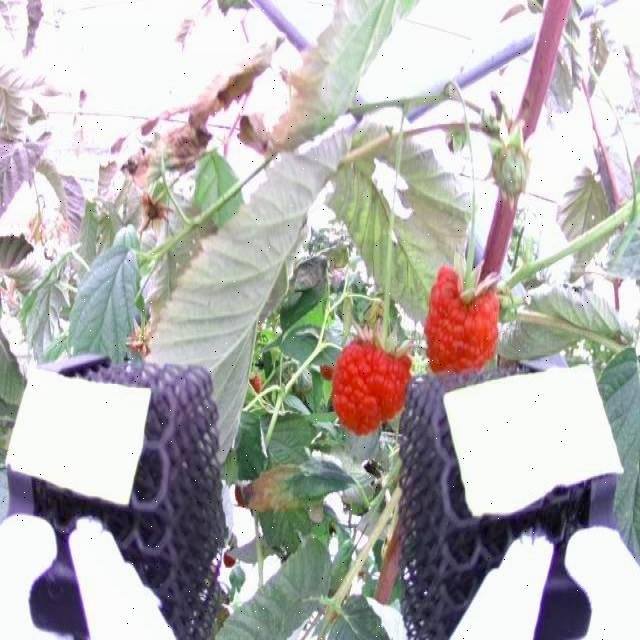Riped berries: (424, 255, 501, 372), (332, 326, 407, 430)
